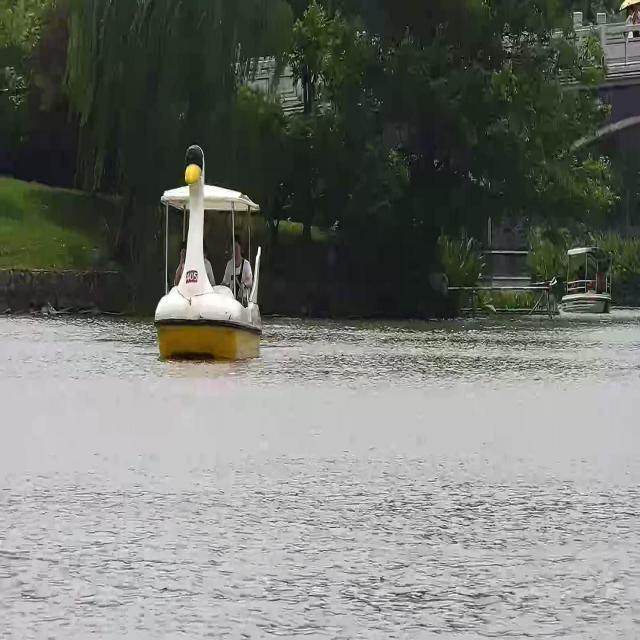CIV_Ship: (148, 139, 265, 361), (560, 244, 614, 323)
